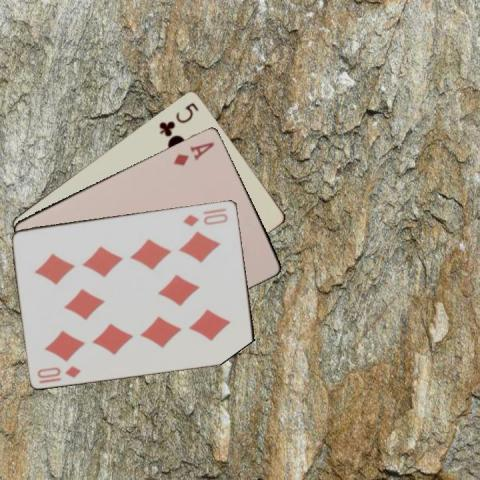10d: (34, 362, 83, 379), (181, 210, 229, 227)
5c: (156, 98, 200, 136)
Ad: (170, 138, 216, 167)
